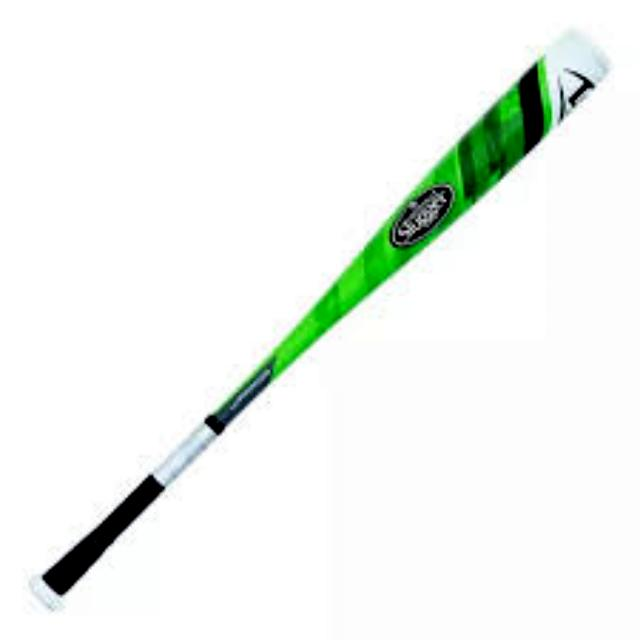baseball bat: (26, 23, 612, 611)
